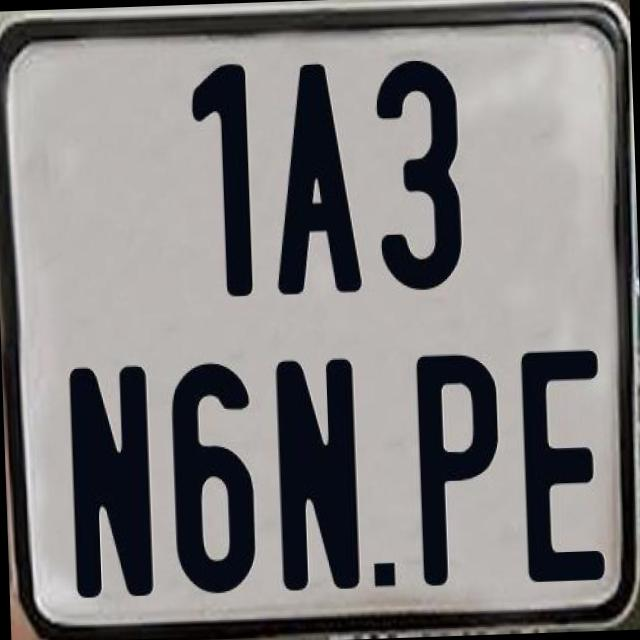1: (188, 63, 255, 302)
3: (372, 54, 462, 294)
6: (170, 361, 260, 604)
A: (270, 59, 370, 291)
E: (516, 344, 606, 580)
N: (275, 357, 367, 600), (65, 363, 151, 598)
P: (412, 349, 504, 589)
